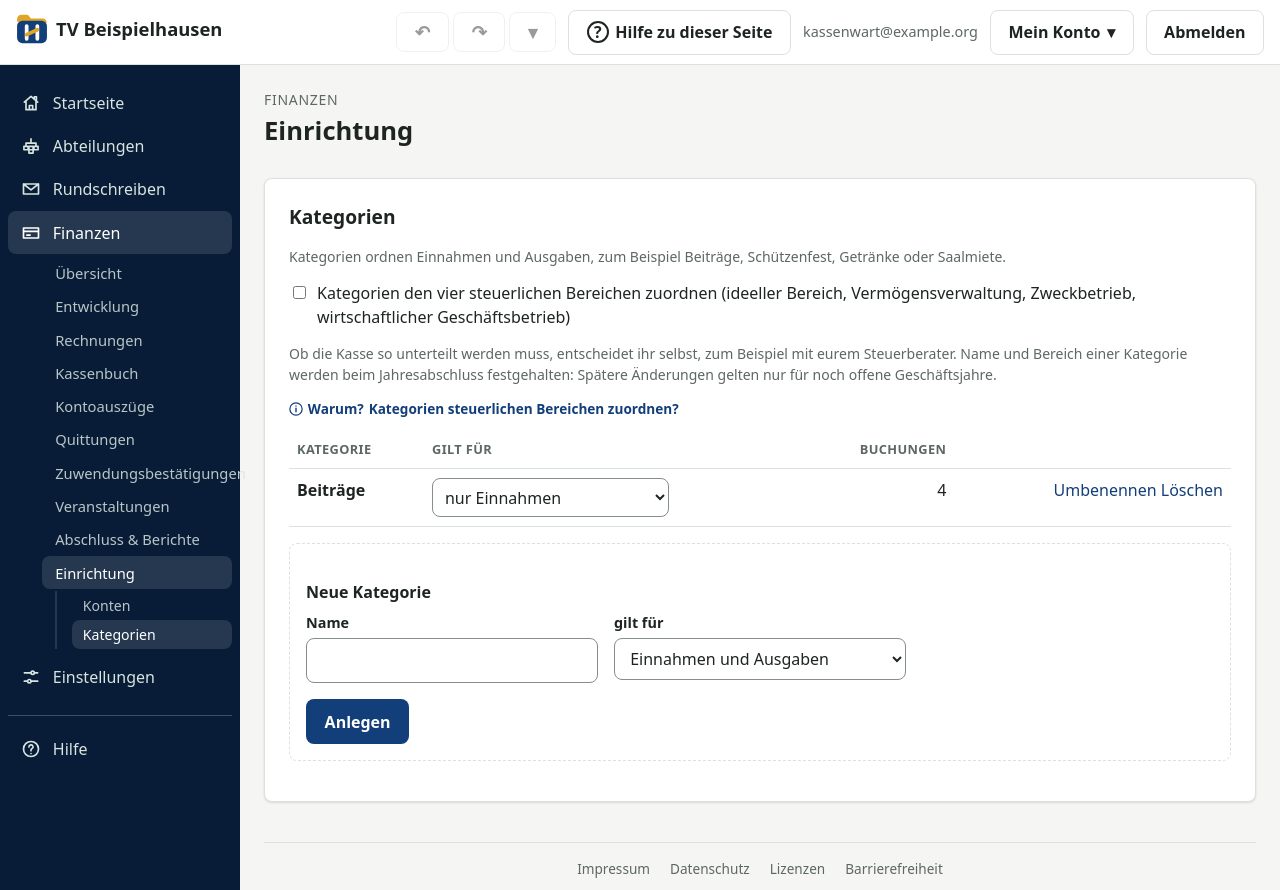
Test: Kategorien löschen und umbenennen › archiviert eine gebuchte Kategorie nach Hinweis
What coordinates should you click on to do the following:
click the button with aria-label "Beiträge löschen"
I would click on:
 (1192, 490)
Its box is x1=1161 y1=478 x2=1223 y2=502.
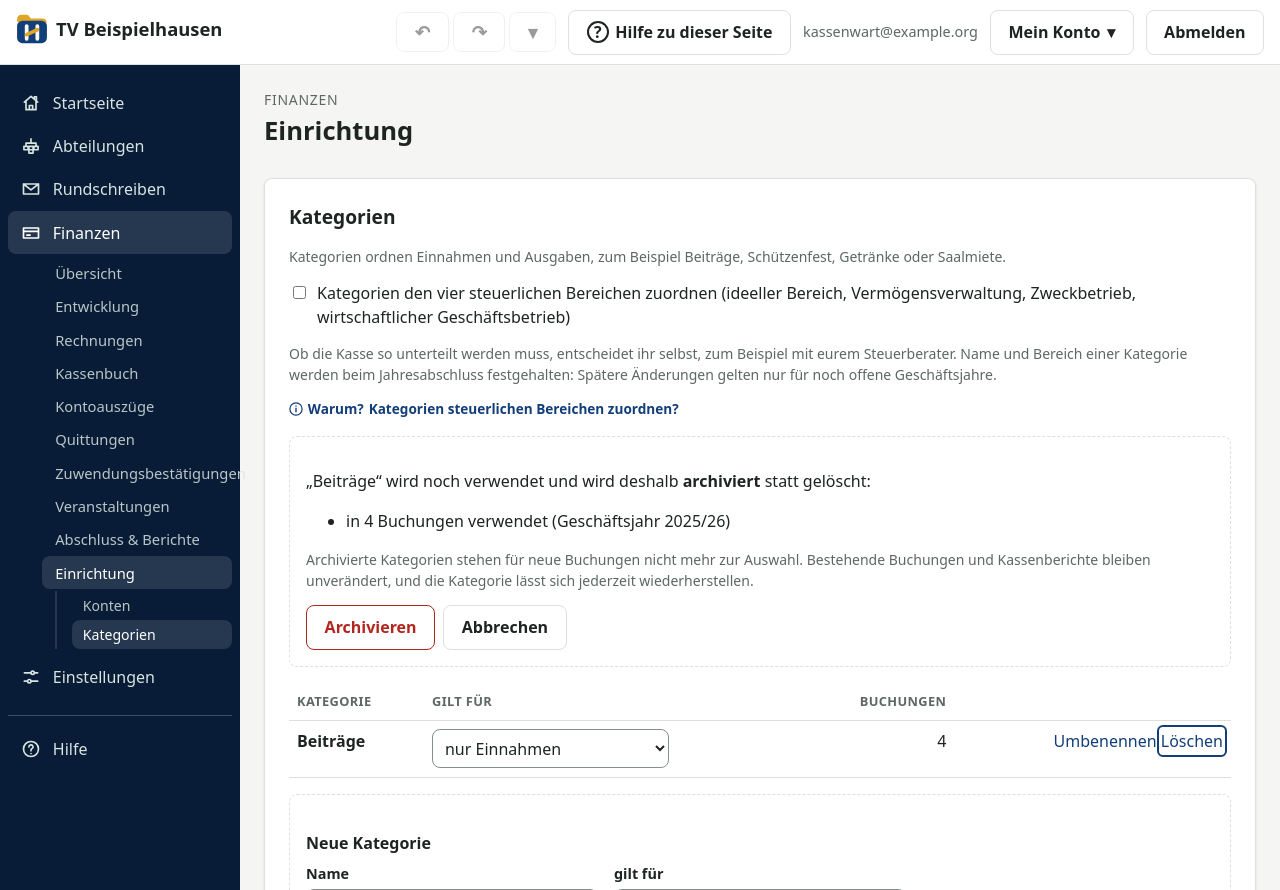
Expected: the list item "in 4 Buchungen verwendet (Geschäftsjahr 2025/26)" is shown, x1=346 y1=510 x2=730 y2=532
What coordinates should you click on to do the following:
click the button "Archivieren"
I would click on:
 (371, 627)
Its box is x1=306 y1=604 x2=435 y2=650.
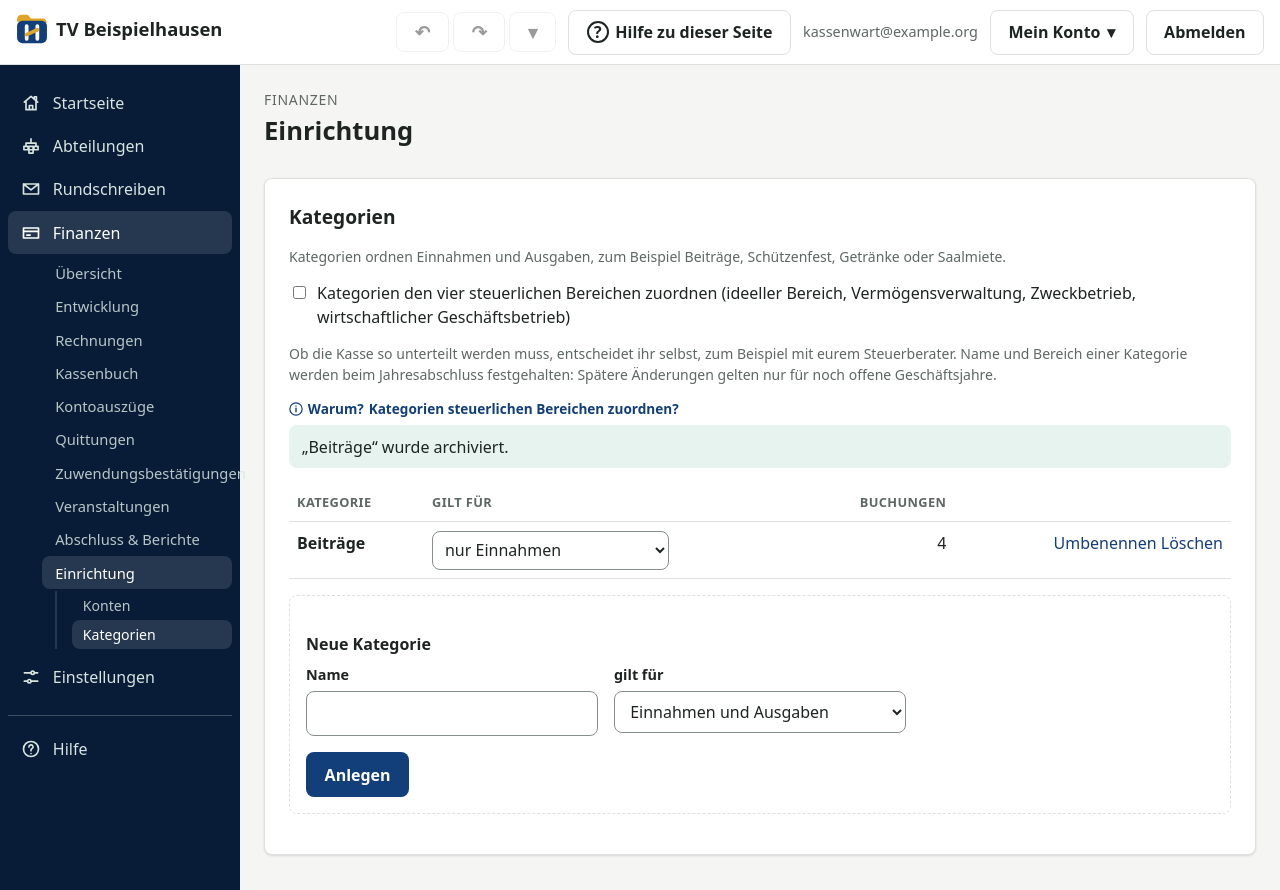
Expected: the text "„Beiträge“ wurde archiviert." is shown, x1=289 y1=425 x2=1231 y2=468
